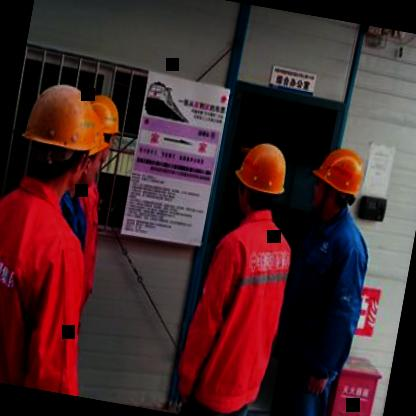helmet: (12, 69, 118, 203), (302, 136, 376, 230), (228, 132, 300, 224), (72, 88, 130, 189)
